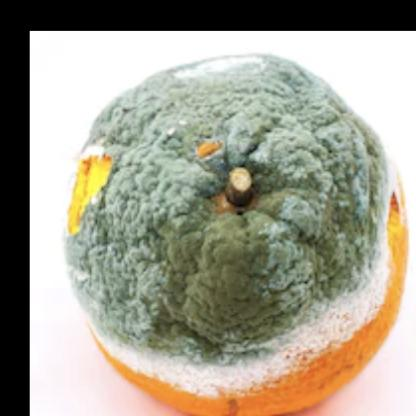rotten: (67, 51, 412, 416)
